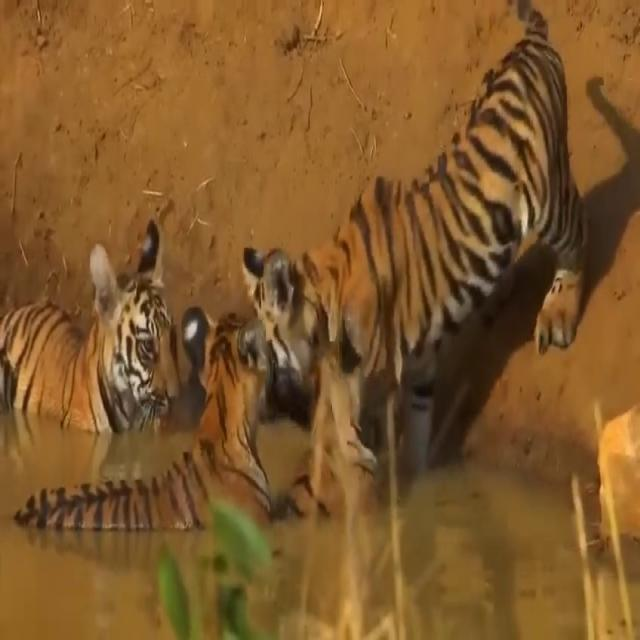tiger: (241, 0, 592, 464), (12, 307, 279, 535), (0, 218, 181, 435)
